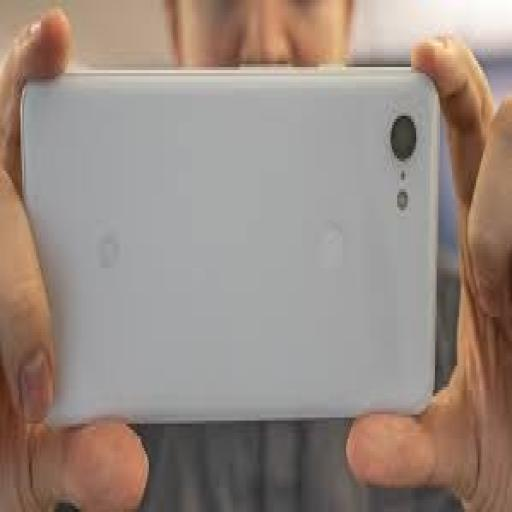phone: (15, 73, 457, 440)
